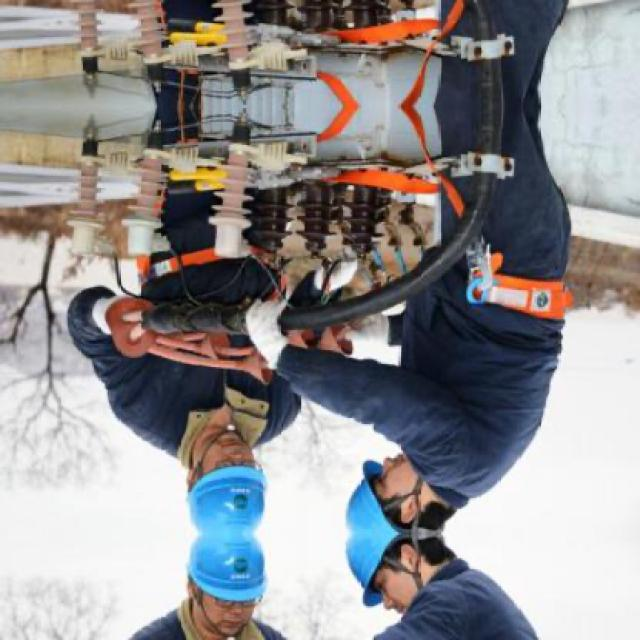con casco: (182, 442, 272, 533), (343, 460, 439, 535)
